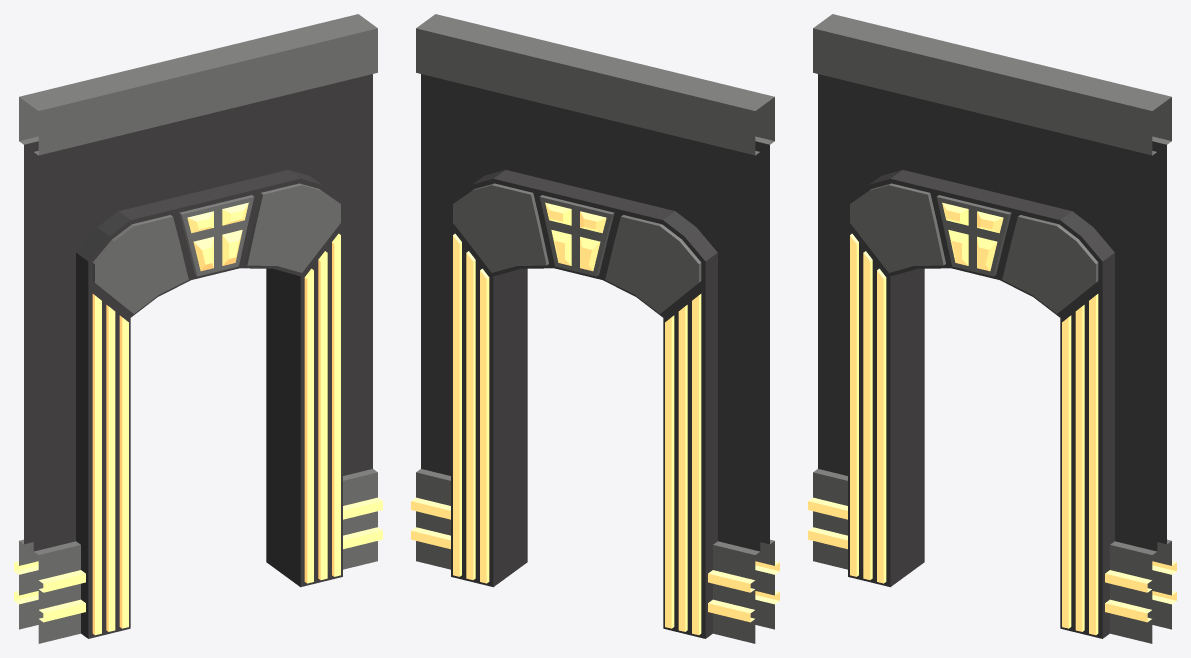
File: door.fbx
The picture shows the model from 3 angles, left to right: view 1: azimuth 30°, elevation 25°; view 2: azimuth 150°, elevation 25°; view 3: azimuth 330°, elevation 25°; orthographic projection.
Parts seen in each view (by area): view 1: Wall.Door.Frame; view 2: Wall.Door.Frame; view 3: Wall.Door.Frame.
Boxes of the visible parts, <box> form: Wall.Door.Frame: <box>14,14,382,643</box>; Wall.Door.Frame: <box>411,14,779,643</box>; Wall.Door.Frame: <box>808,14,1176,643</box>.
Bounding box in the file's own units: 200 × 300 × 45.
